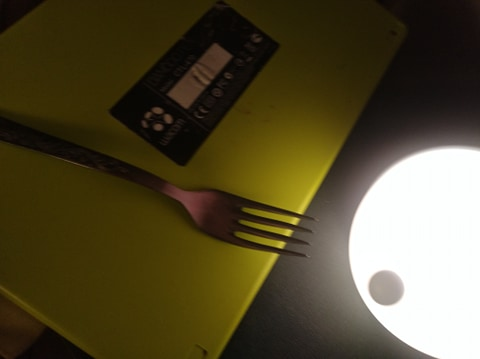Widelec: (179, 178, 316, 267)
